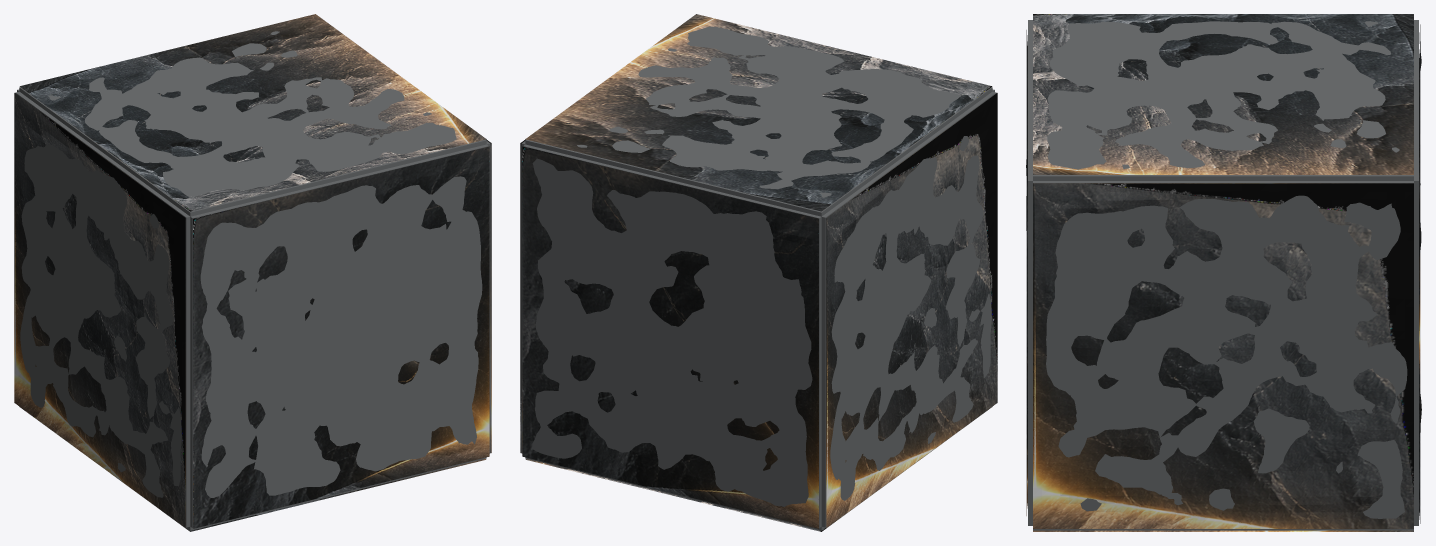
File: stone-cube.glb
3 views of the same model, side by side, from view 1: azimuth 30°, elevation 25°; view 2: azimuth 150°, elevation 25°; view 3: azimuth 270°, elevation 25° (orthographic). The views are drawn at different scales.
Parts seen in each view (by area): view 1: shell_front, shell_left, stone_left, shell_top, stone_top, stone_front, stone_bottom, shell_right, stone_right; view 2: shell_back, stone_back, shell_left, stone_left, shell_top, stone_top, stone_bottom, shell_right, stone_right; view 3: stone_right, shell_right, shell_top, stone_top, shell_front, shell_back, stone_back, stone_front, stone_bottom, shell_bottom.
Part boxes in pixels (x1,y1,x2,y2): shell_front: (190, 144, 488, 528); shell_left: (15, 91, 190, 527); stone_left: (14, 93, 185, 527); shell_top: (19, 31, 486, 216); stone_top: (19, 14, 486, 211); stone_front: (193, 146, 489, 528); stone_bottom: (20, 407, 486, 531); shell_right: (486, 141, 490, 453); stone_right: (486, 139, 491, 452); shell_back: (523, 144, 821, 528); stone_back: (522, 146, 818, 528); shell_left: (821, 91, 996, 527); stone_left: (826, 93, 997, 527); shell_top: (525, 26, 992, 216); stone_top: (525, 14, 992, 211); stone_bottom: (525, 407, 991, 531); shell_right: (521, 141, 525, 453); stone_right: (520, 139, 525, 452); stone_right: (1033, 183, 1413, 528); shell_right: (1033, 181, 1413, 518); shell_top: (1033, 21, 1413, 180); stone_top: (1033, 14, 1413, 174); shell_front: (1028, 20, 1032, 525); shell_back: (1414, 20, 1418, 525); stone_back: (1419, 24, 1421, 523); stone_front: (1026, 30, 1027, 515); stone_bottom: (1033, 530, 1413, 531); shell_bottom: (1033, 529, 1413, 530).
Bounding box in the file's own units: 2.05 × 2.05 × 2.04.
9 materials, 6 textured.
